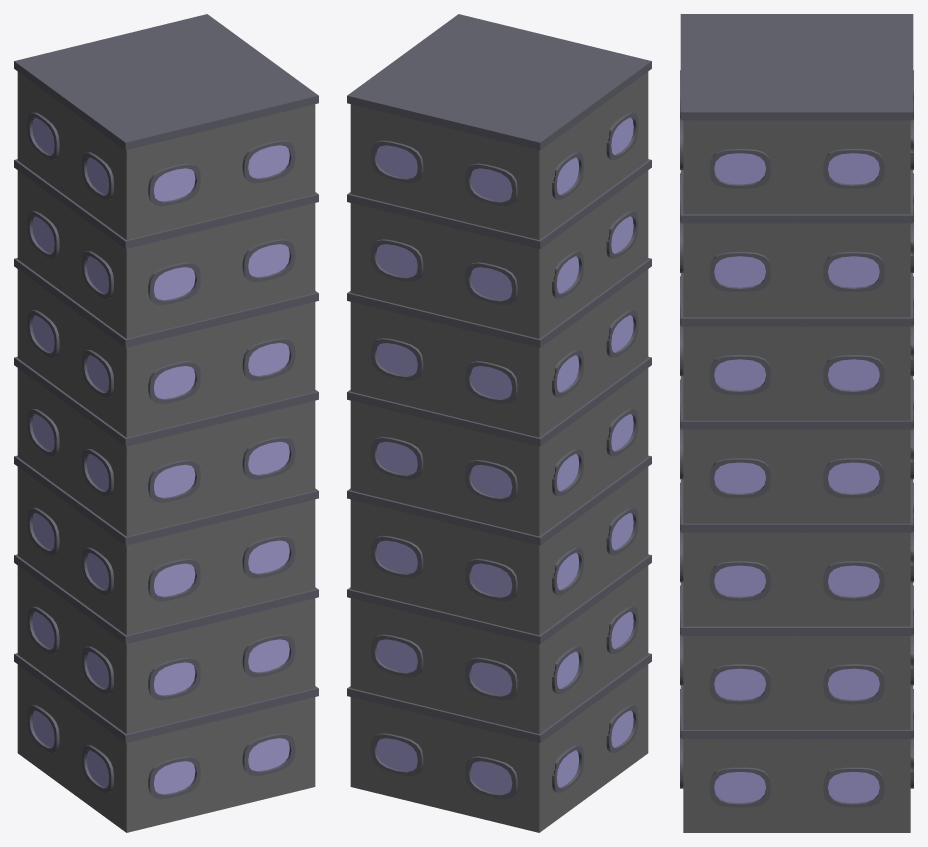
Rendered from obj_flat_2x2_oval.FBX.
3 views of the same model, side by side, from view 1: azimuth 30°, elevation 25°; view 2: azimuth 150°, elevation 25°; view 3: azimuth 270°, elevation 25° (orthographic). The views are drawn at different scales.
Parts seen in each view (by area): view 1: obj_flat_2x2_oval; view 2: obj_flat_2x2_oval; view 3: obj_flat_2x2_oval.
Part boxes in pixels (<box>): obj_flat_2x2_oval: <box>14,14,318,832</box>; obj_flat_2x2_oval: <box>347,14,651,832</box>; obj_flat_2x2_oval: <box>680,14,913,832</box>.
Size of the model in its own units: 4.11 by 14 by 4.11.
Materials: 1 (1 with a texture image).
